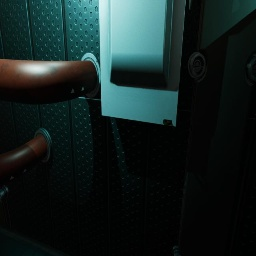SafetySwitchPanel ,: (99, 0, 192, 127)
